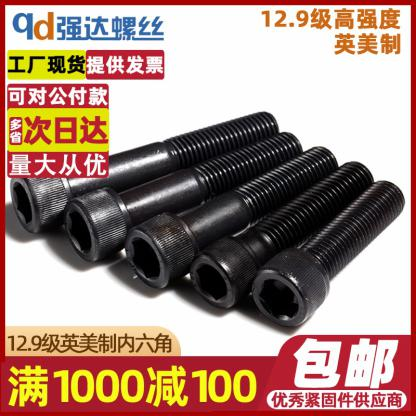FOD: (9, 110, 281, 238), (61, 127, 304, 266), (120, 144, 339, 293), (184, 158, 376, 312), (249, 175, 407, 328)
